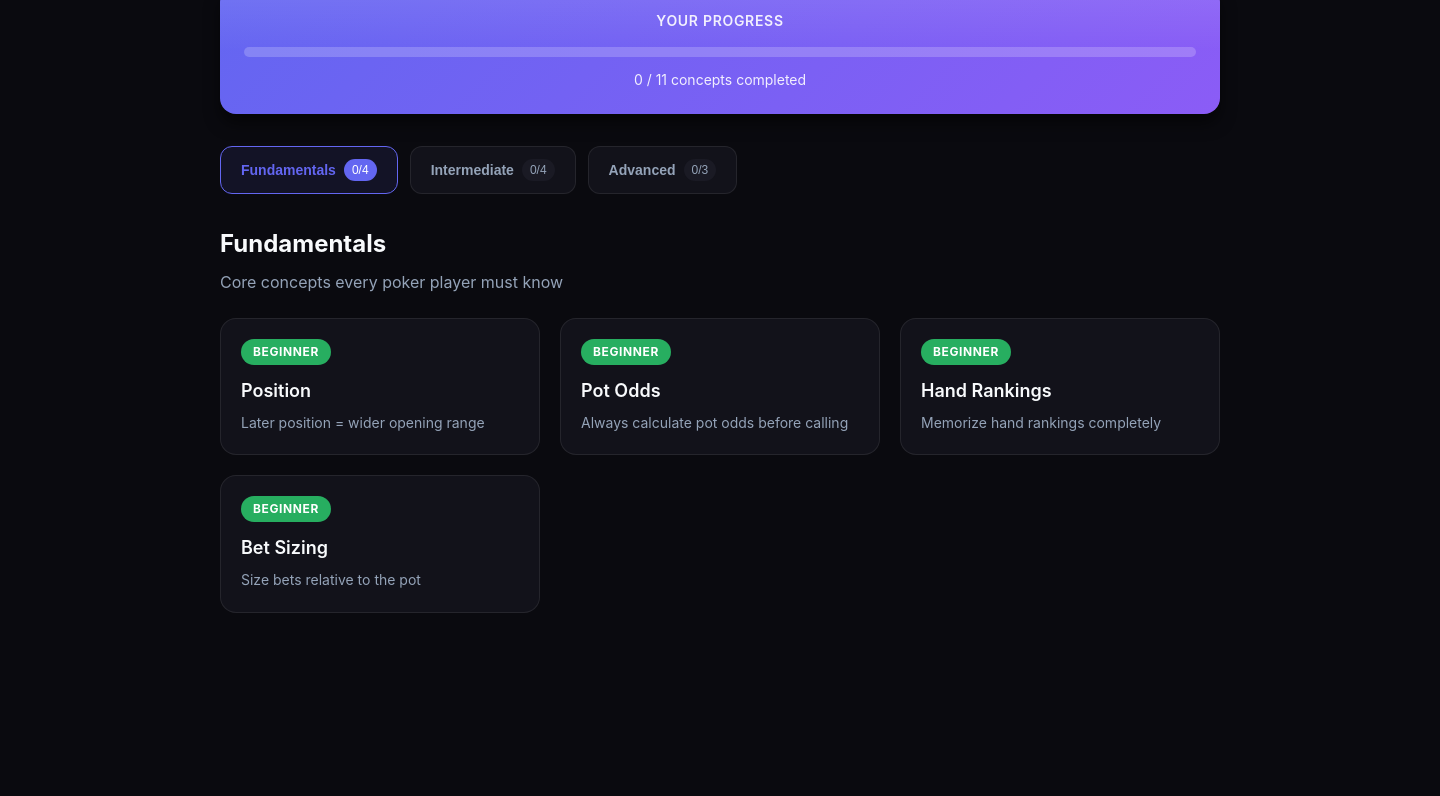
ConceptsLibrary › Concept Detail View › should show Mark as Complete button for incomplete concepts
The image size is (1440, 796).
Click the heading "Position" at (276, 390), box x1=241 y1=380 x2=311 y2=401
(page scrolled)
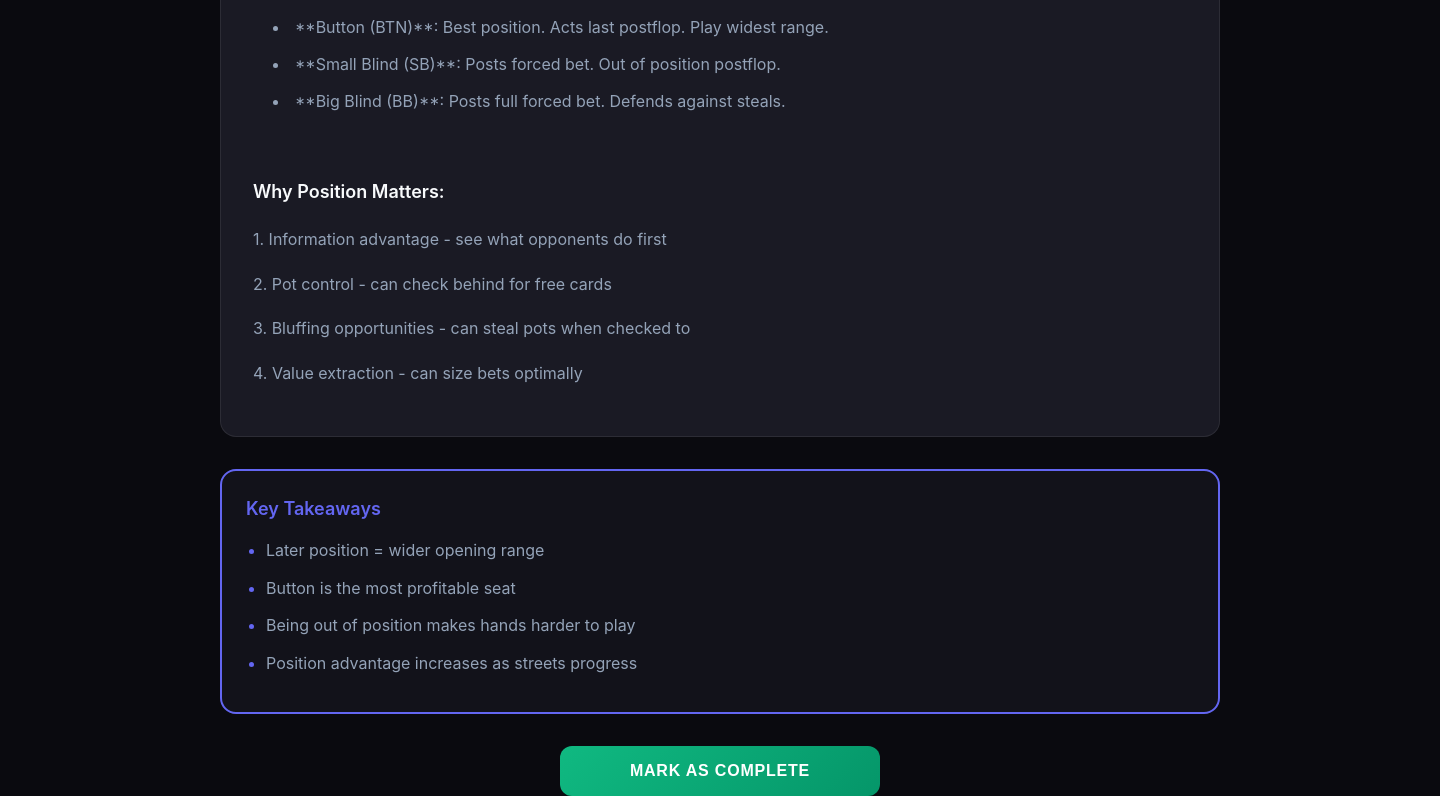
Check: the button "Mark as Complete" is shown, box x1=560 y1=746 x2=880 y2=795
